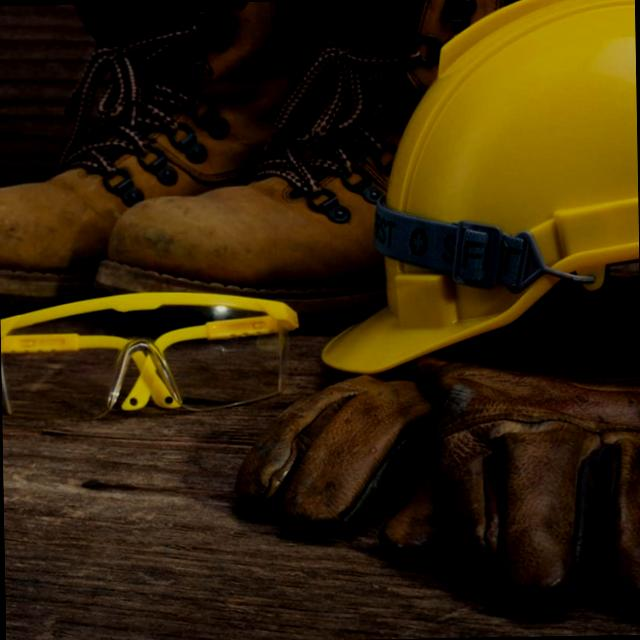goggles: (0, 282, 305, 431)
helmet: (301, 0, 638, 387)
